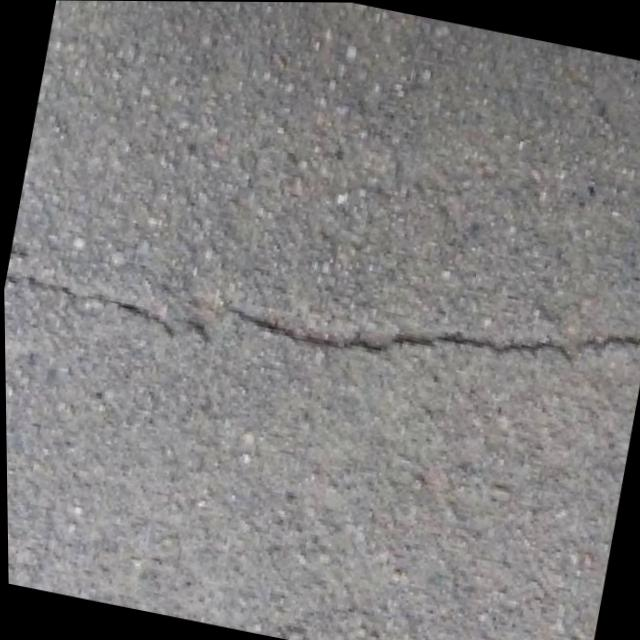Crack: (2, 182, 640, 475)
